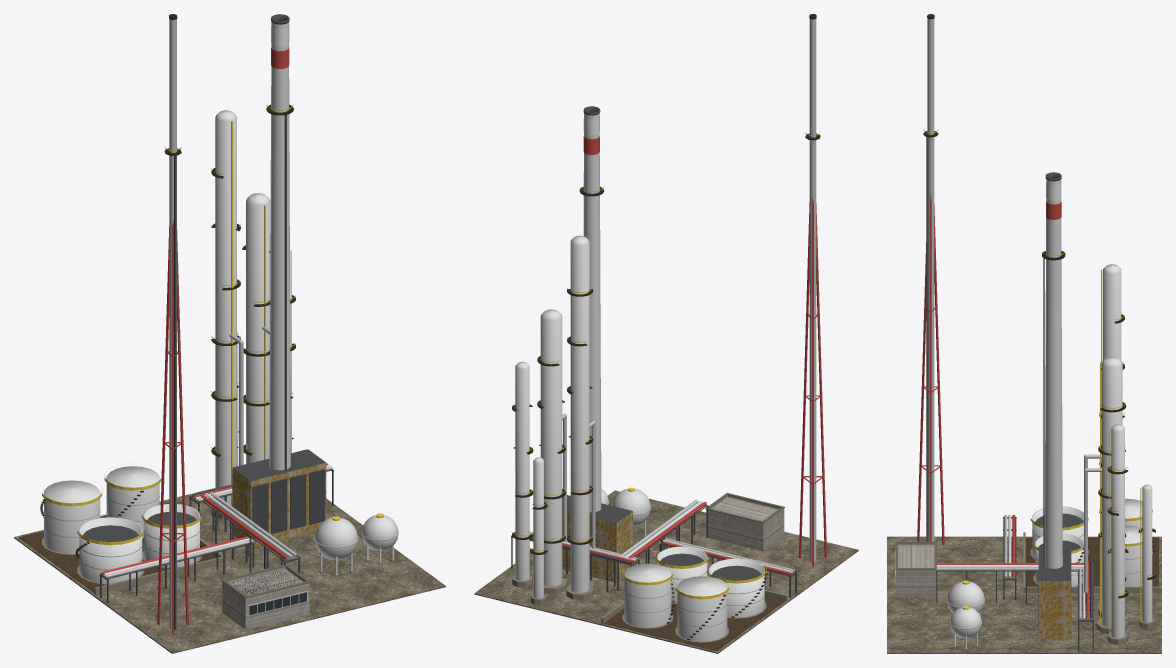
Rendered from refinery.glb.
3 views of the same model, side by side, from view 1: azimuth 30°, elevation 25°; view 2: azimuth 150°, elevation 25°; view 3: azimuth 270°, elevation 25° (orthographic). The views are drawn at different scales.
Visible parts, largest first — view 1: refinery_body; view 2: refinery_body; view 3: refinery_body.
Part boxes in pixels (bbox=[...]): refinery_body: bbox=[14, 14, 445, 653]; refinery_body: bbox=[474, 14, 858, 653]; refinery_body: bbox=[887, 14, 1161, 653].
Bounding box in the file's own units: 0.94 × 2.01 × 0.94.
19 materials, 8 textured.
